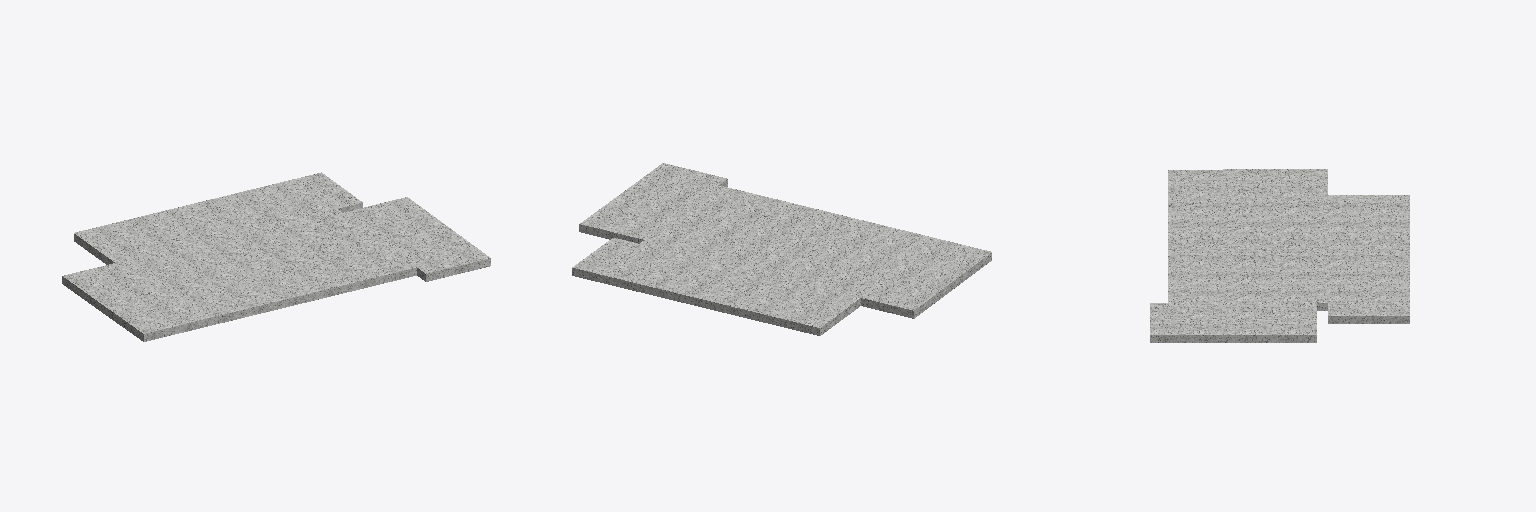
The picture shows the model from 3 angles: view 1: azimuth 30°, elevation 25°; view 2: azimuth 150°, elevation 25°; view 3: azimuth 270°, elevation 25°; orthographic projection.
Parts seen in each view (by area): view 1: 1stfloor; view 2: 1stfloor; view 3: 1stfloor.
Boxes of the visible parts, box(x1,y1,x2,y2) form: 1stfloor: box(62, 172, 490, 341); 1stfloor: box(572, 163, 991, 335); 1stfloor: box(1150, 169, 1409, 342).
Size of the model in its own units: 13.08 by 0.3 by 8.68.
1 materials, 1 textured.